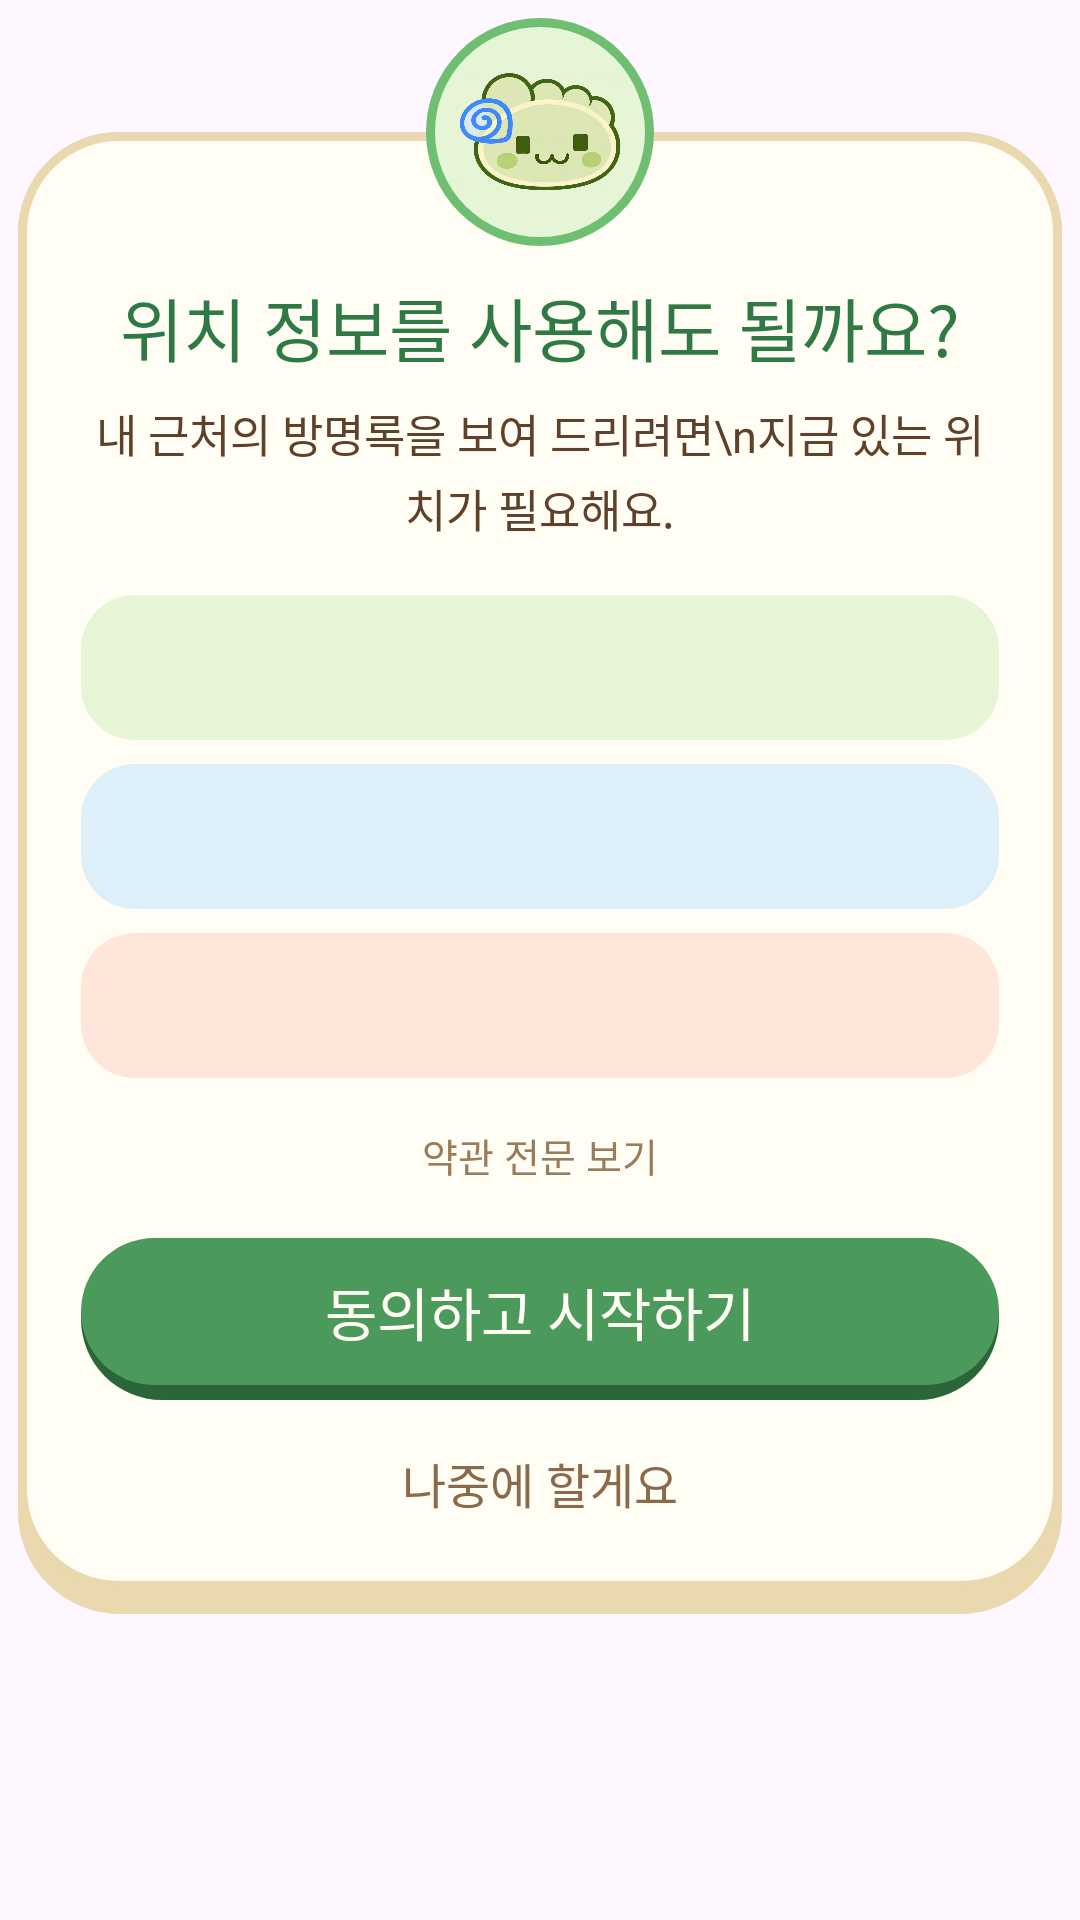

Icons on this 1080w x 1920h Android screen, each with its box as [x1=x1, y1=y1, x2=x2, y2=y2]:
mascot: [x1=426, y1=18, x2=654, y2=246]
